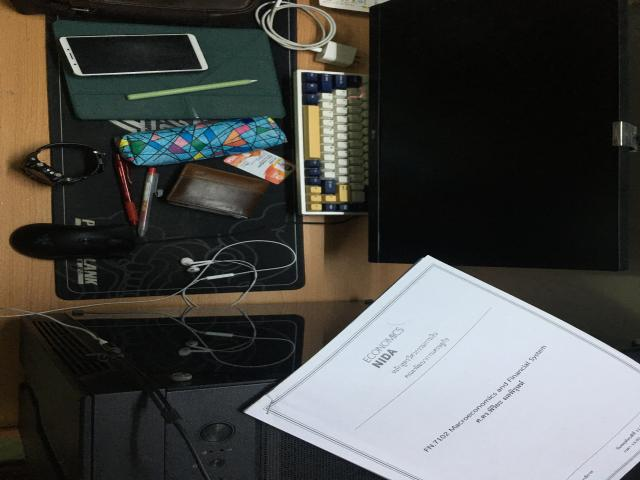Mobile phone: (60, 34, 208, 76)
Mouse: (10, 223, 137, 260)
Pen: (113, 154, 140, 226), (137, 167, 158, 237)
Wallet: (167, 163, 270, 218)
Watch: (22, 142, 105, 186)
paper: (245, 256, 640, 480), (318, 0, 388, 12)
wire: (255, 0, 357, 67), (180, 240, 297, 290)
